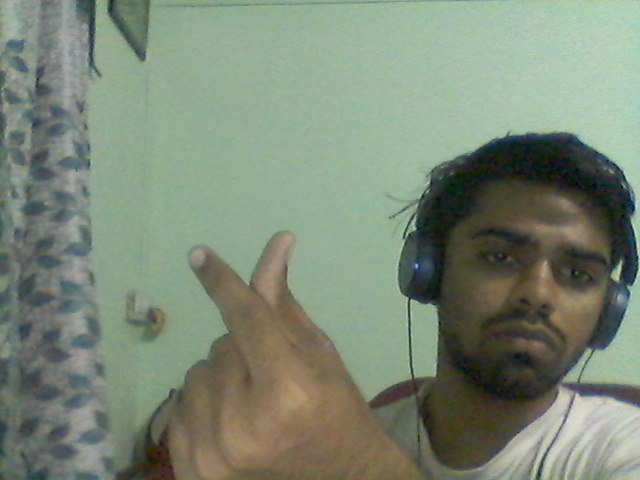I Love You: (146, 170, 392, 480)
